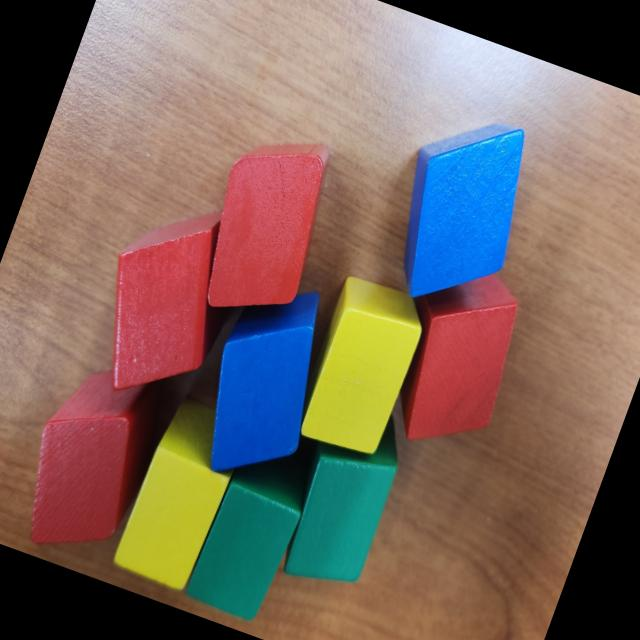blue: (370, 99, 550, 322), (181, 267, 352, 496)
green: (266, 388, 418, 600), (182, 438, 320, 627)
red: (74, 185, 256, 418), (4, 350, 176, 573), (364, 249, 541, 465), (183, 118, 350, 336)
yellow: (109, 391, 252, 595), (290, 271, 434, 463)
